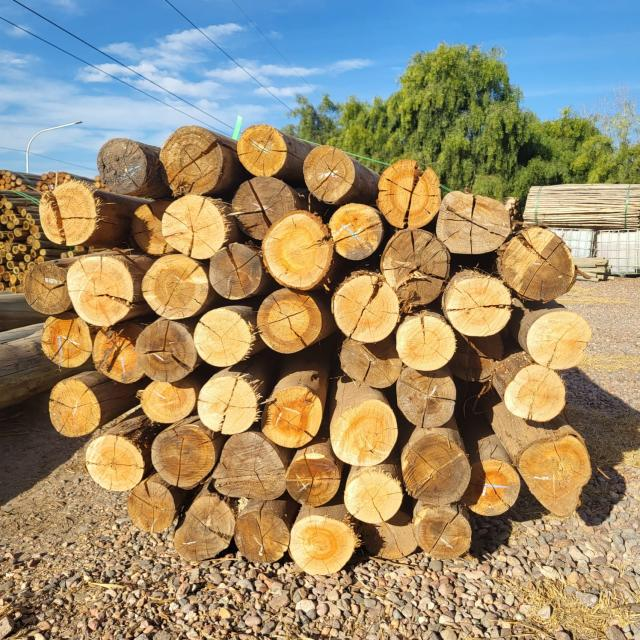package: (22, 128, 587, 572), (1, 193, 44, 293)
